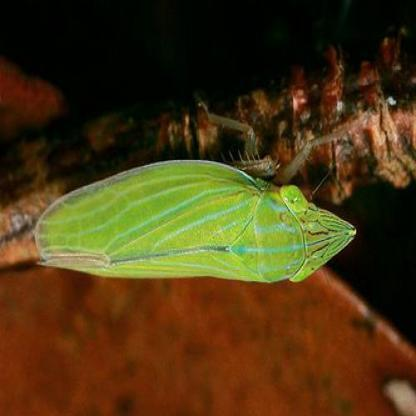green-leafhopper: (33, 158, 356, 290)
